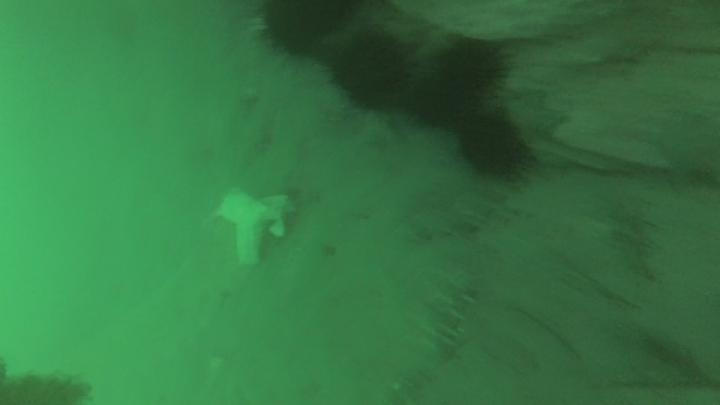echinus: (328, 29, 414, 113), (254, 1, 356, 60), (454, 109, 533, 182), (431, 36, 511, 104), (409, 68, 474, 130)
holothurian: (404, 266, 480, 365)
starfish: (650, 107, 720, 192)
